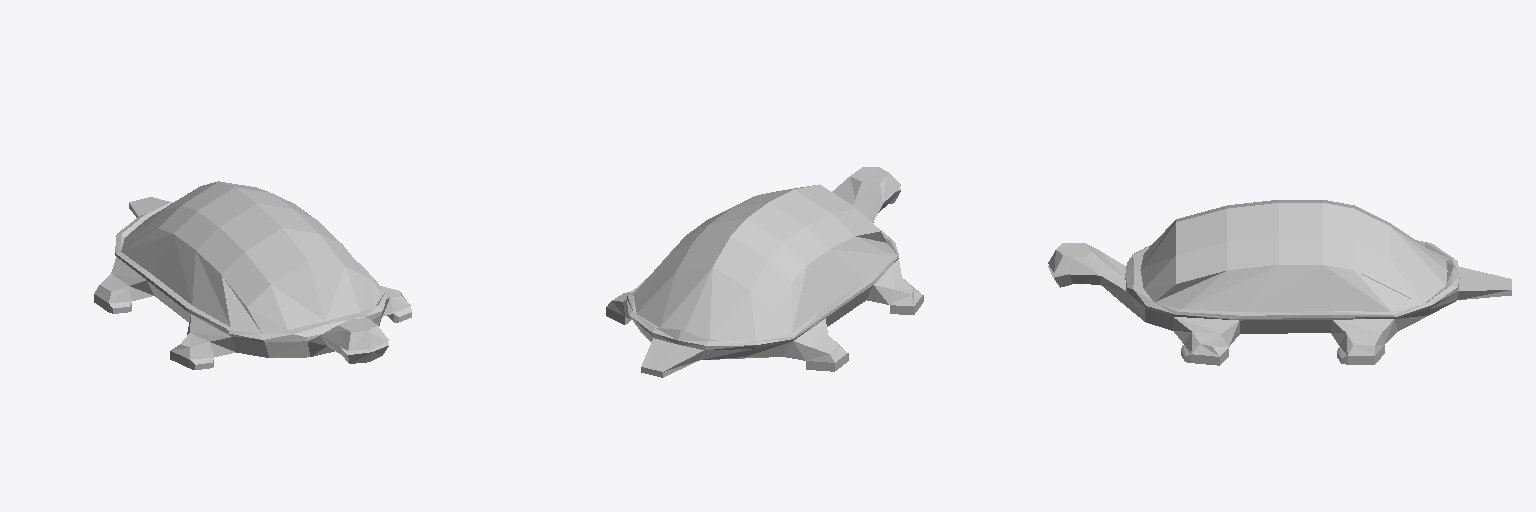
The model's file is turtle.obj.
3 renders of one model, left to right at view 1: azimuth 30°, elevation 25°; view 2: azimuth 150°, elevation 25°; view 3: azimuth 270°, elevation 25°, orthographic.
Parts seen in each view (by area): view 1: turtle; view 2: turtle; view 3: turtle.
Part boxes in pixels (left/top/right/bottom): turtle: left=94, top=181, right=411, bottom=369; turtle: left=606, top=167, right=923, bottom=377; turtle: left=1048, top=200, right=1511, bottom=365.
Size of the model in its own units: 985 by 432 by 1709.